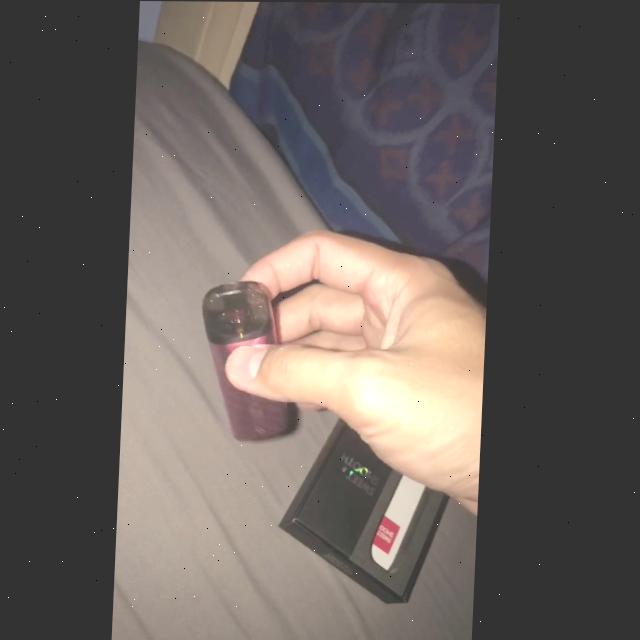vape: (200, 278, 307, 443)
